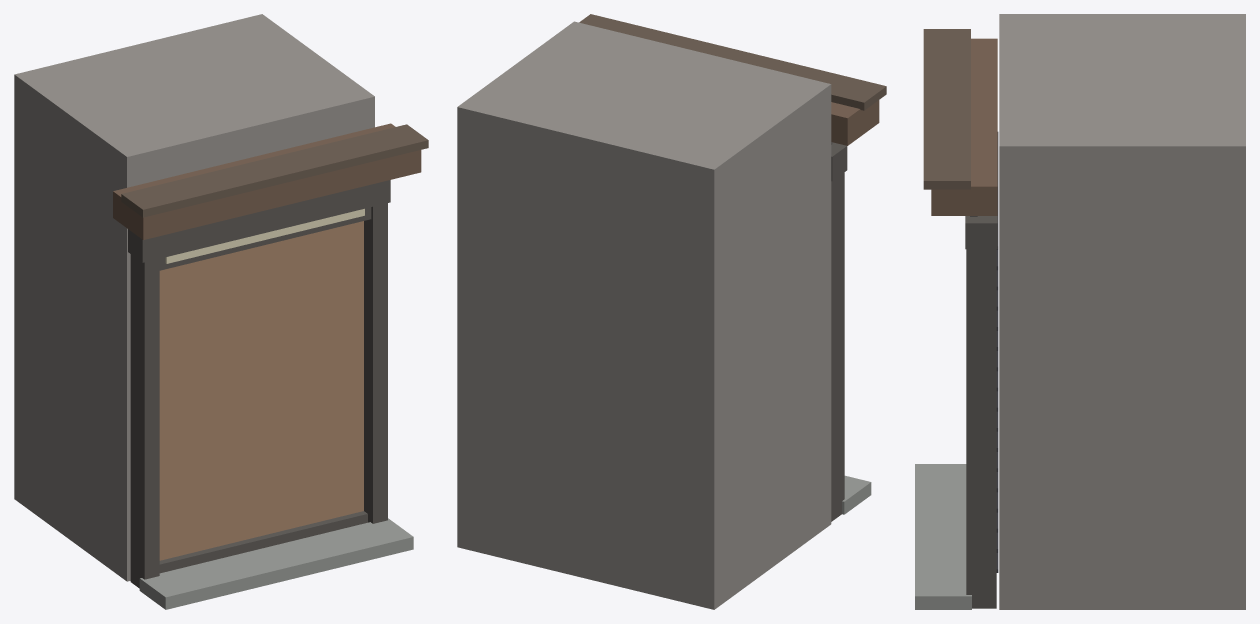
The model's file is prop_shutter_shop_cha.glb.
3 views of the same model, side by side, from view 1: azimuth 30°, elevation 25°; view 2: azimuth 150°, elevation 25°; view 3: azimuth 270°, elevation 25° (orthographic). The views are drawn at different scales.
Visible parts, largest first — view 1: shutter_shop_cha; view 2: shutter_shop_cha; view 3: shutter_shop_cha.
Part boxes in pixels (x1,y1,x2,y2): shutter_shop_cha: (14,14,428,609); shutter_shop_cha: (457,14,886,609); shutter_shop_cha: (915,14,1245,609).
Size of the model in its own units: 3.8 by 5.4 by 3.49.
